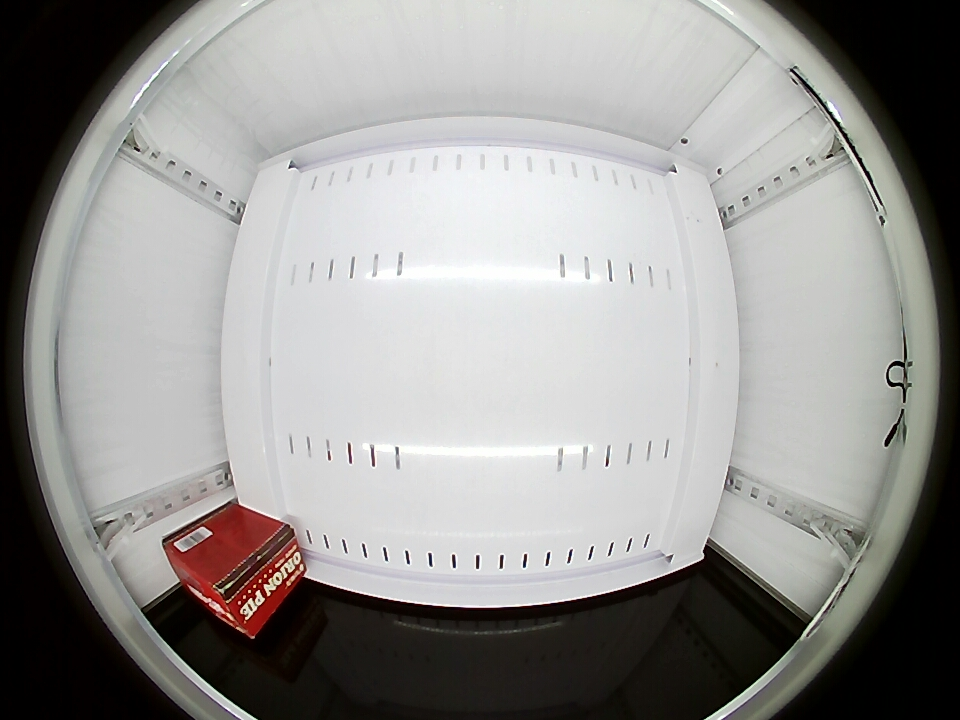haoliyou: (163, 521, 284, 638)
